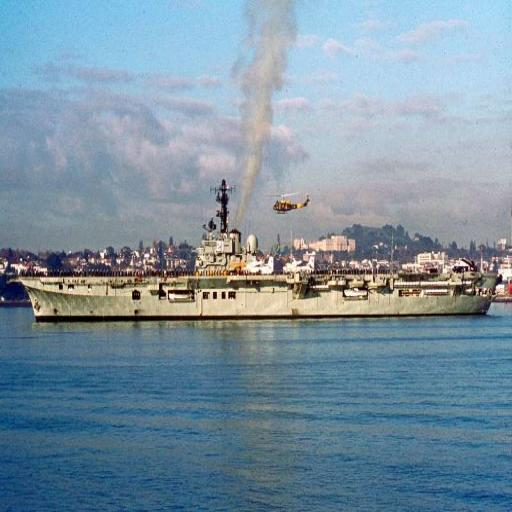Portanaves: (13, 177, 508, 328)
